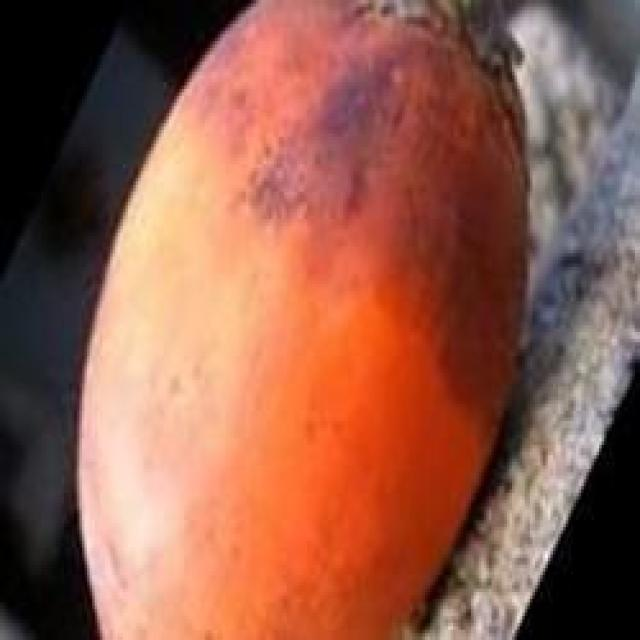good: (74, 0, 530, 637)
